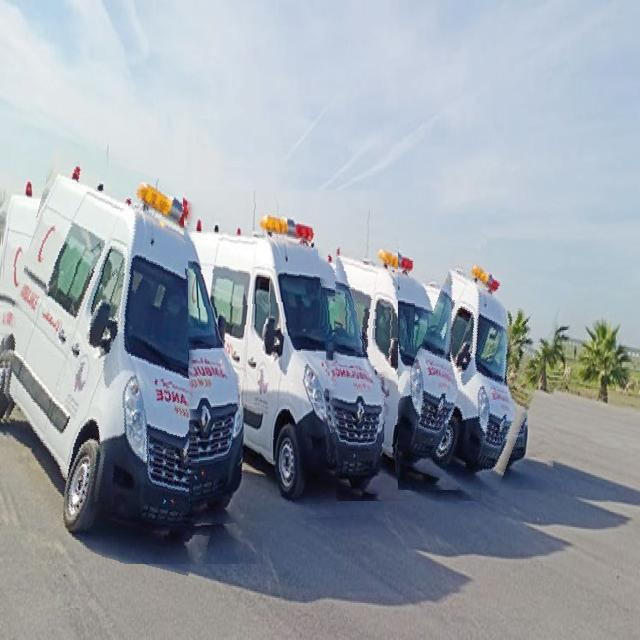ambulance: (0, 153, 263, 564), (183, 189, 384, 526), (316, 222, 481, 501), (398, 249, 556, 490)
